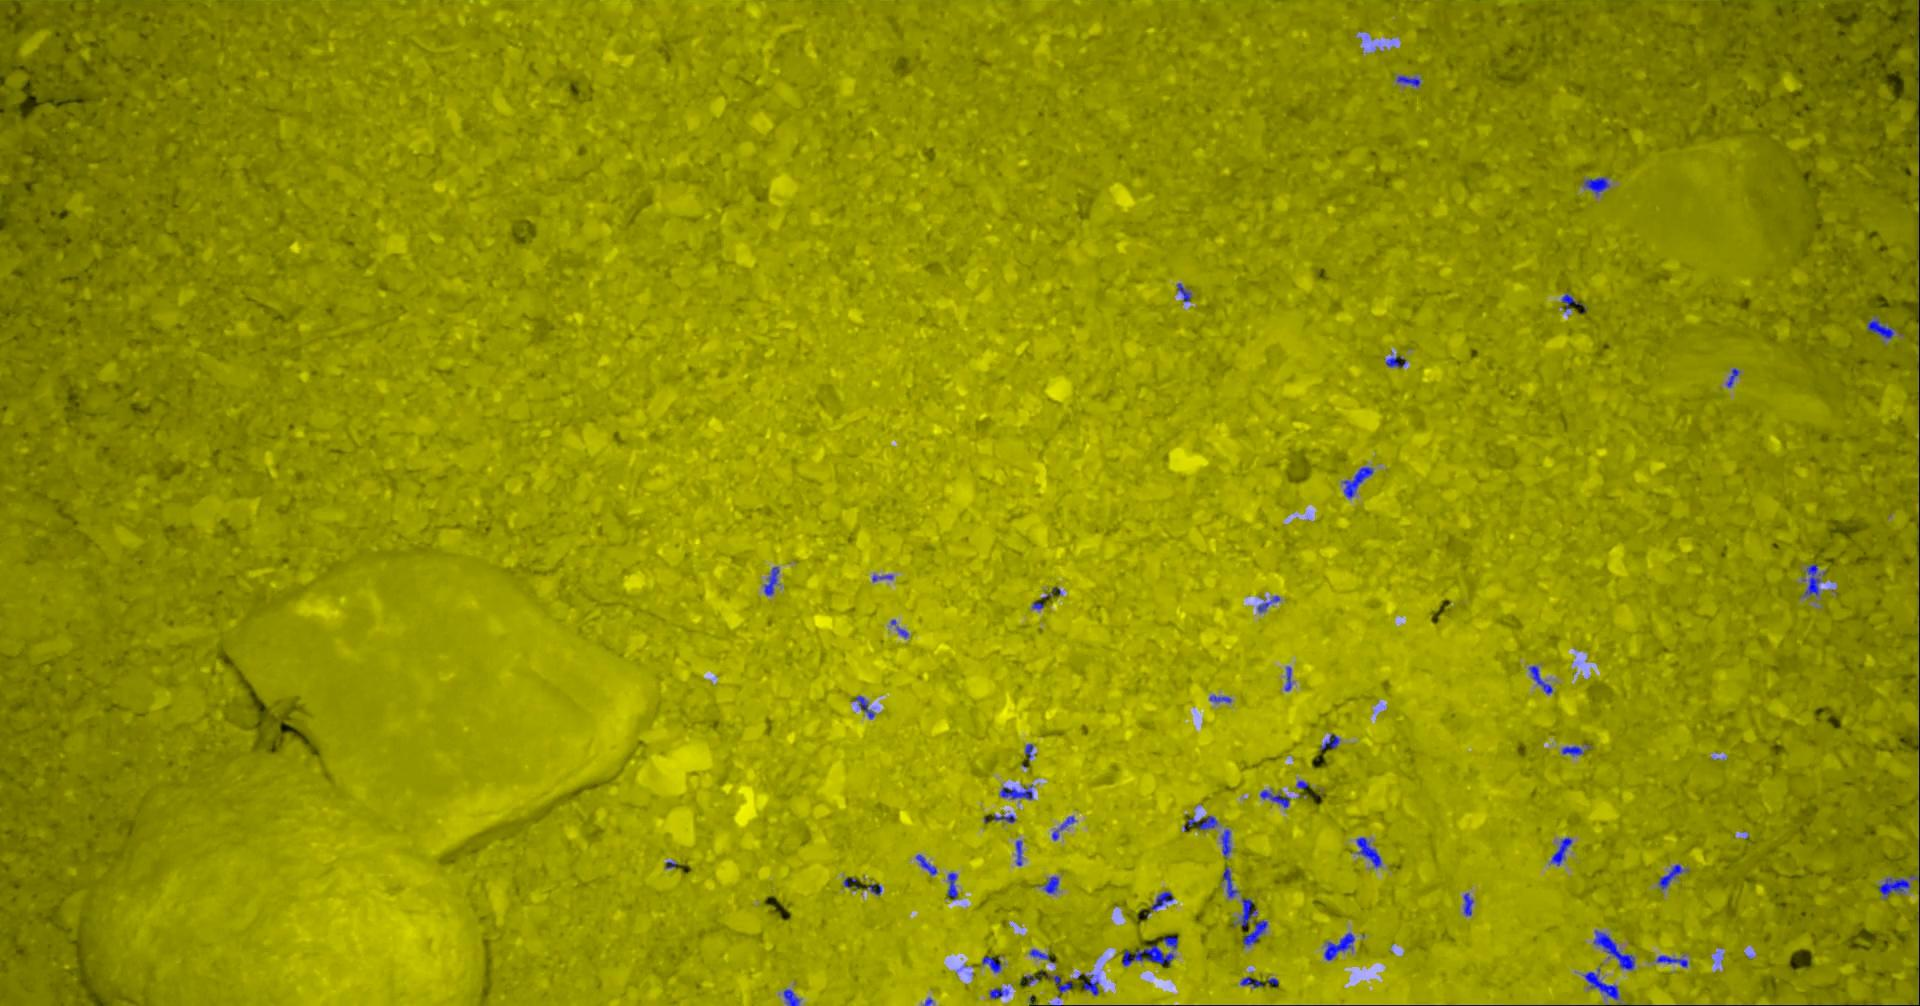ant: (1592, 930, 1634, 969), (1121, 944, 1173, 967), (1583, 968, 1618, 998), (1342, 466, 1371, 497), (1323, 932, 1354, 960), (1355, 837, 1382, 868), (1657, 862, 1686, 889), (1242, 920, 1267, 946), (1528, 666, 1552, 694), (1867, 315, 1893, 339), (1878, 876, 1910, 895), (1802, 563, 1820, 596), (1237, 897, 1256, 927), (1550, 837, 1571, 865), (1051, 815, 1074, 840), (1258, 789, 1289, 807), (1222, 866, 1239, 897), (999, 784, 1032, 799), (1183, 815, 1217, 831), (1077, 973, 1098, 995), (1583, 177, 1608, 196), (855, 695, 874, 718), (1150, 890, 1173, 909), (1048, 974, 1072, 992), (763, 567, 778, 594), (916, 854, 936, 874), (1257, 594, 1279, 612), (1655, 955, 1688, 967), (1561, 293, 1581, 311), (1321, 733, 1338, 749), (1176, 282, 1191, 301), (1239, 976, 1263, 987), (947, 873, 957, 899), (982, 956, 999, 972), (1396, 75, 1418, 86), (1043, 876, 1058, 893), (783, 988, 799, 1005), (1222, 829, 1230, 857), (1726, 368, 1738, 387), (1463, 893, 1473, 915), (1029, 949, 1049, 959), (1561, 746, 1583, 754), (1385, 356, 1404, 366), (989, 988, 1008, 998), (1284, 666, 1291, 690), (866, 883, 881, 894), (1162, 936, 1177, 948), (1209, 695, 1230, 702), (993, 814, 1015, 822), (1015, 840, 1021, 865), (843, 876, 857, 888)
